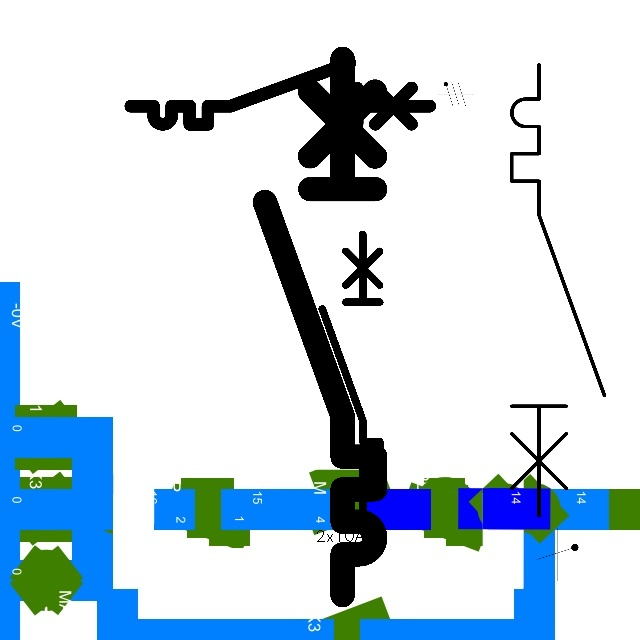interruptor_termomagnetico: (251, 45, 389, 609), (500, 53, 616, 527), (123, 55, 438, 132), (315, 227, 387, 521)
